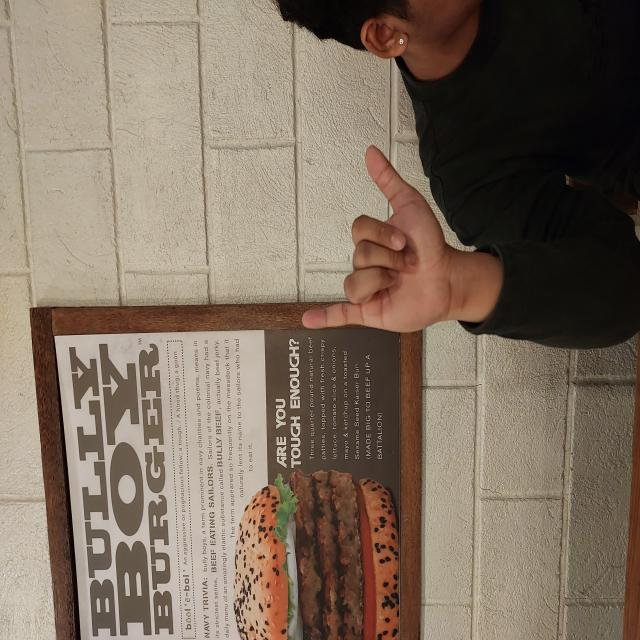Y: (306, 300, 496, 453)
